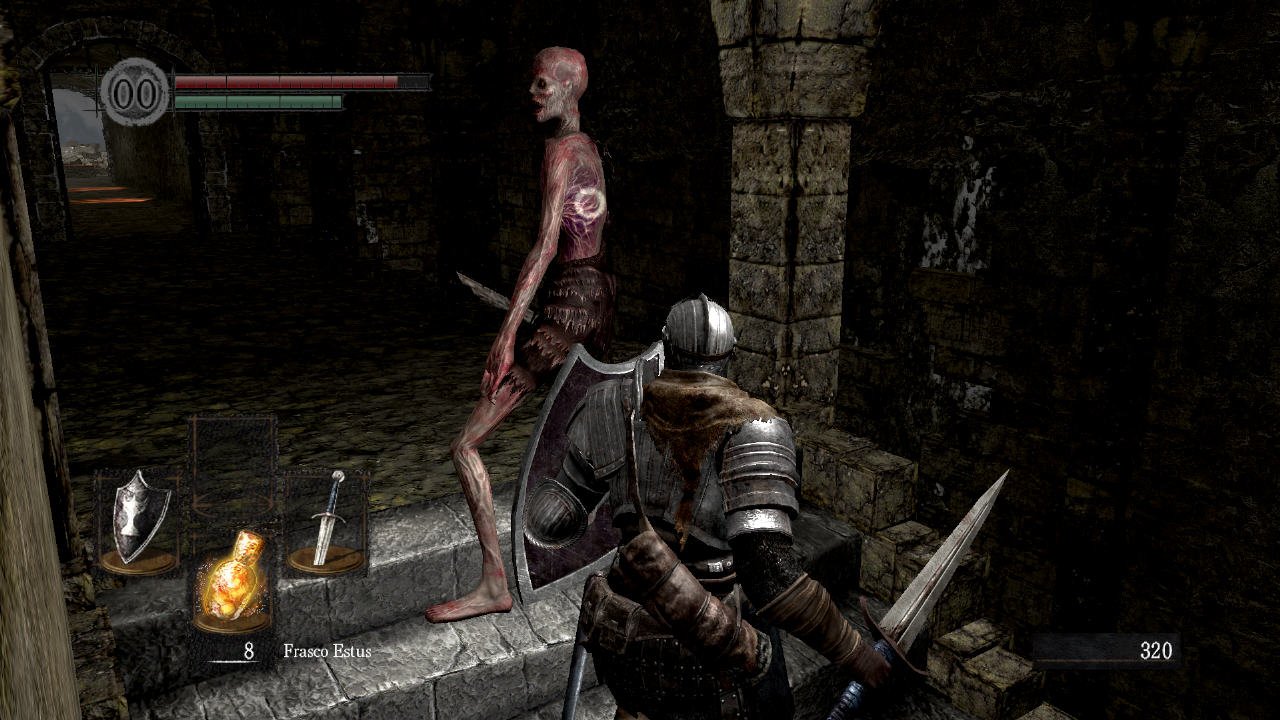hollow: (425, 45, 621, 624)
player: (508, 288, 1011, 720)
